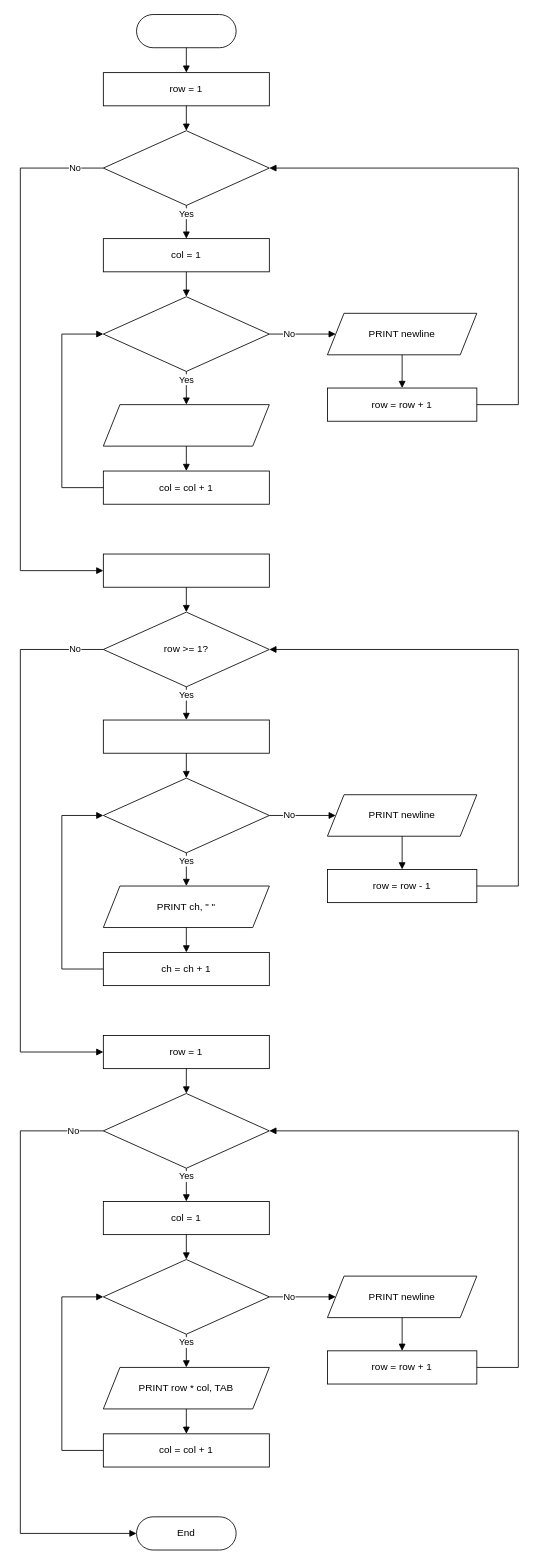
Image size: 540x1565. Some labels were removed from this diagram. Each missing label, with the box of its shape:
ch < 'A' + row?: (103, 777, 269, 853)
ch = 'A': (103, 719, 269, 753)
col <= 5?: (103, 1259, 269, 1334)
col <= row?: (103, 296, 269, 371)
PRINT row, " ": (103, 404, 269, 446)
row <= 4?: (103, 130, 269, 205)
row <= 5?: (103, 1093, 269, 1168)
row = 4: (103, 553, 269, 587)
Start: (136, 14, 236, 48)
